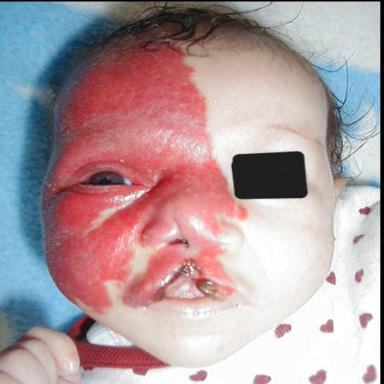Hemangiome: (45, 50, 245, 312), (125, 246, 184, 306)
